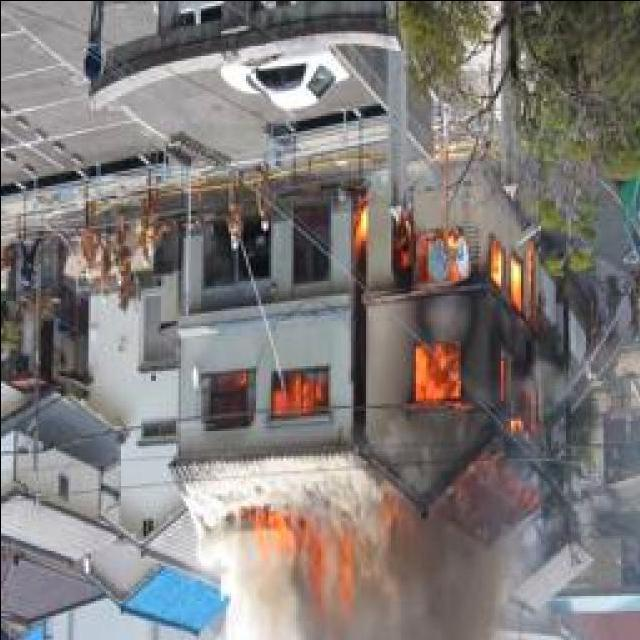Fire: (349, 198, 549, 447), (228, 508, 350, 596), (233, 371, 327, 423)
